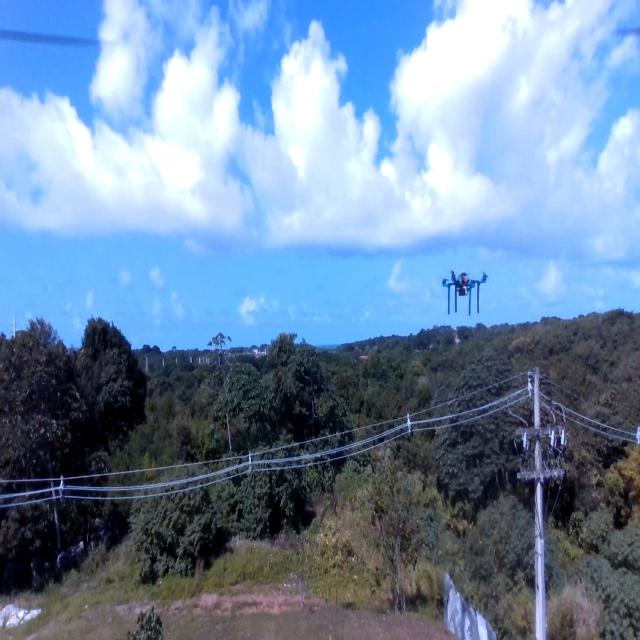-uav-: (433, 252, 495, 324)
